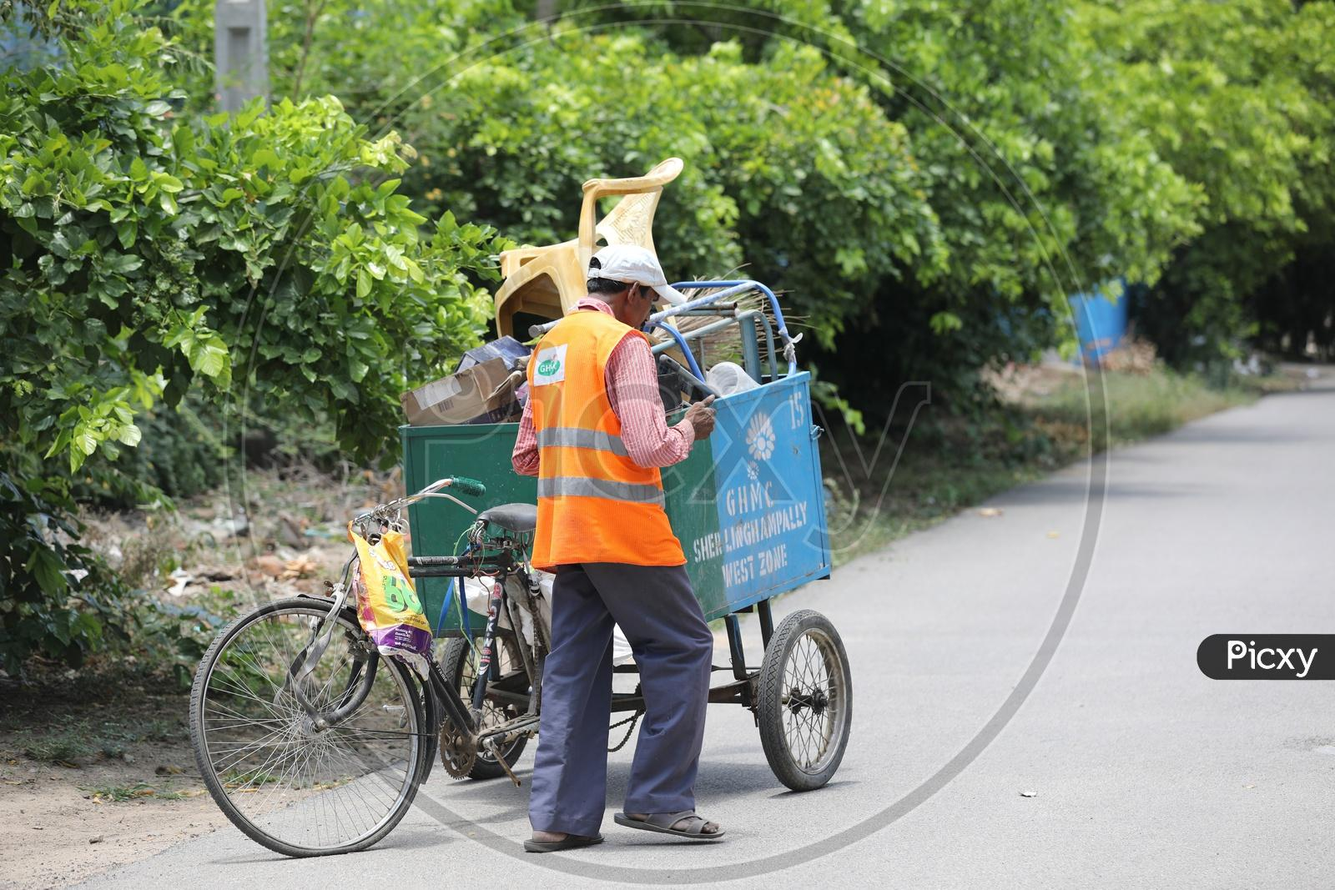road: (83, 381, 1335, 889)
